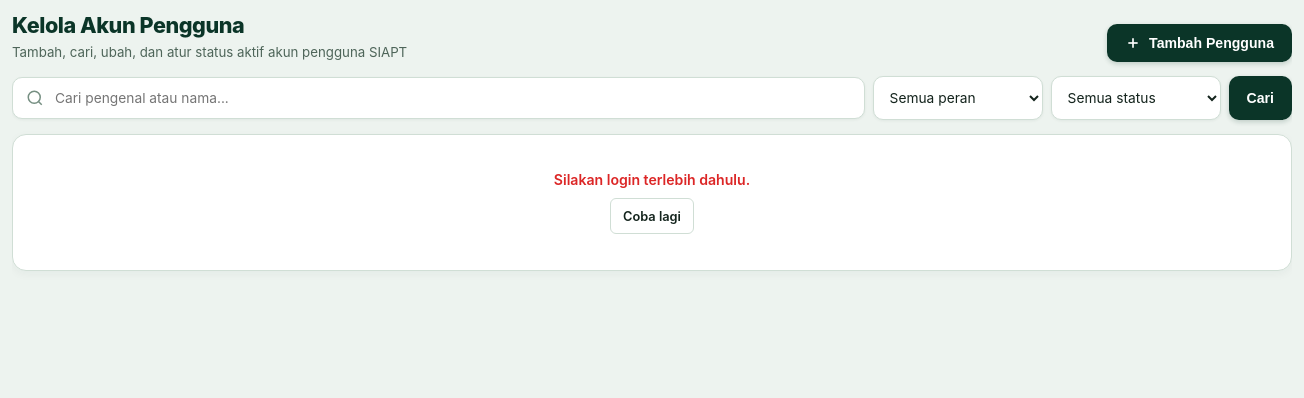
it: KelolaAkun › menampilkan error dari server dan tombol Coba lagi
Expected: the text "Silakan login terlebih dahulu." is shown, [554,171,750,188]
What coordinates should you click on to do the following:
click the button "Coba lagi"
I would click on:
 (652, 216)
Its box is [610,198,694,234].
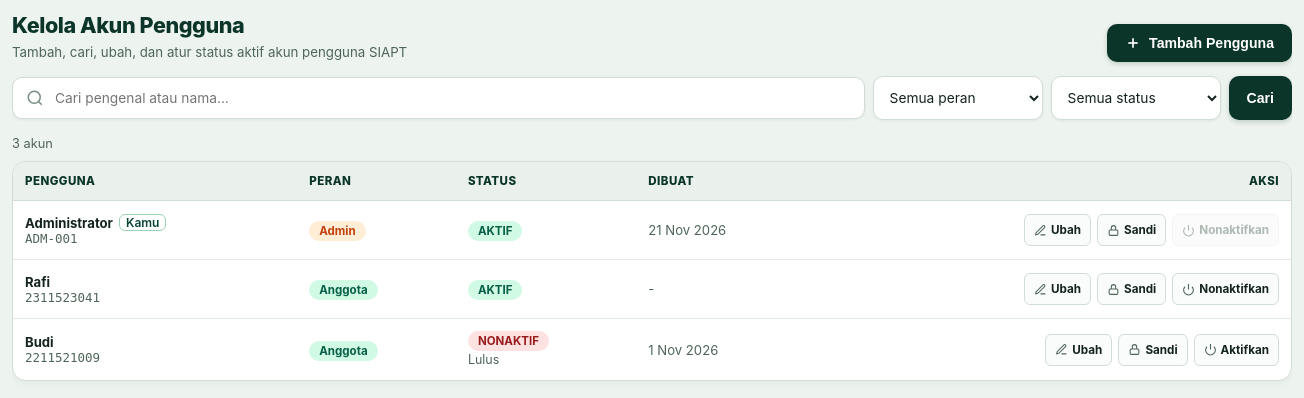
Expected: the text "2311523041" is shown, [25,290,100,305]
